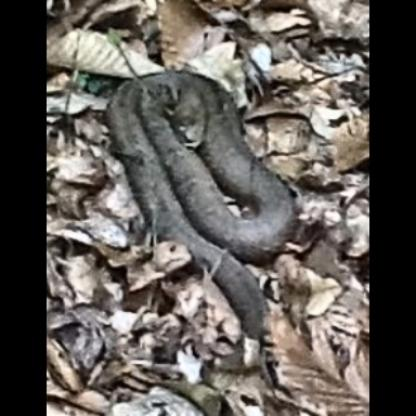Snake: (73, 12, 344, 403)
